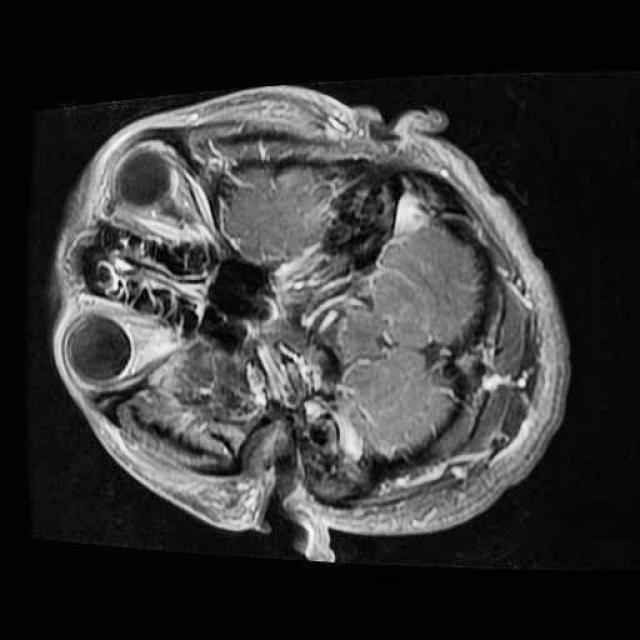Non-Tumor: (161, 322, 262, 440)
